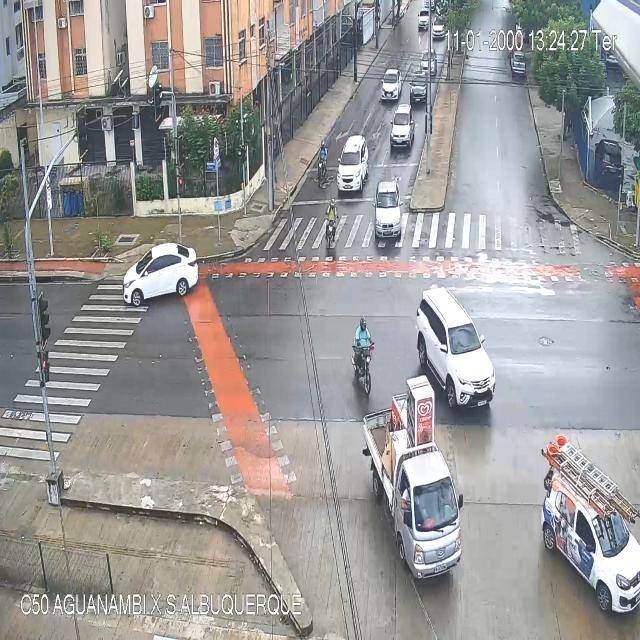Car: (543, 472, 640, 611), (416, 289, 495, 411), (124, 244, 197, 305), (374, 180, 403, 240), (338, 136, 368, 191), (380, 65, 403, 103), (390, 106, 412, 145), (410, 76, 428, 108), (419, 49, 436, 77), (510, 49, 524, 75), (432, 20, 445, 42), (418, 10, 428, 30)
Motorcycle: (324, 198, 336, 256), (319, 142, 328, 185)
Truck: (363, 407, 464, 577)
